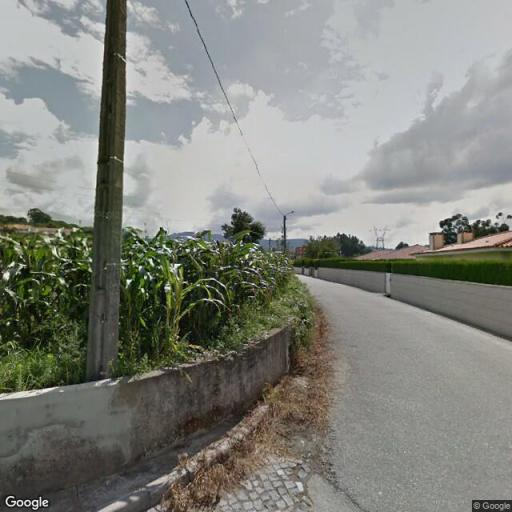wt_5: (370, 224, 392, 248)
